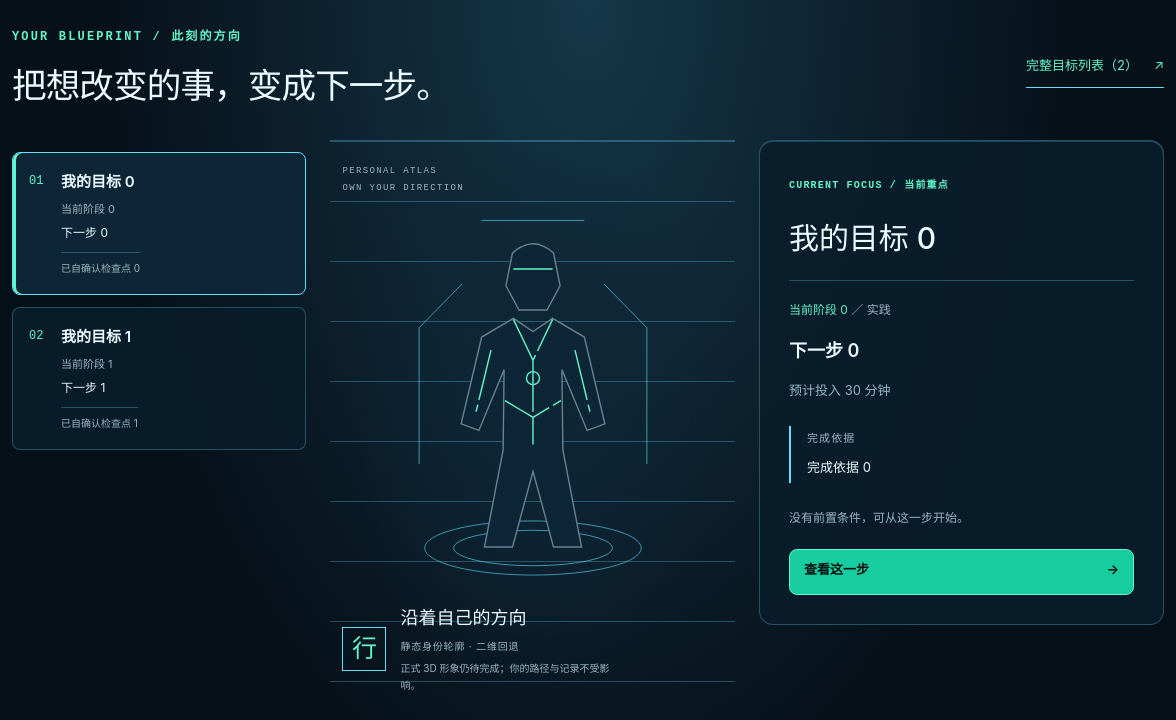
Test: removed focus falls back to an available goal and no eligible next node explains the path dependency state
The width and height of the screenshot is (1176, 720).
Click the button named "关注目标：我的目标 1".
click(96, 337)  # box [12,307,306,450]
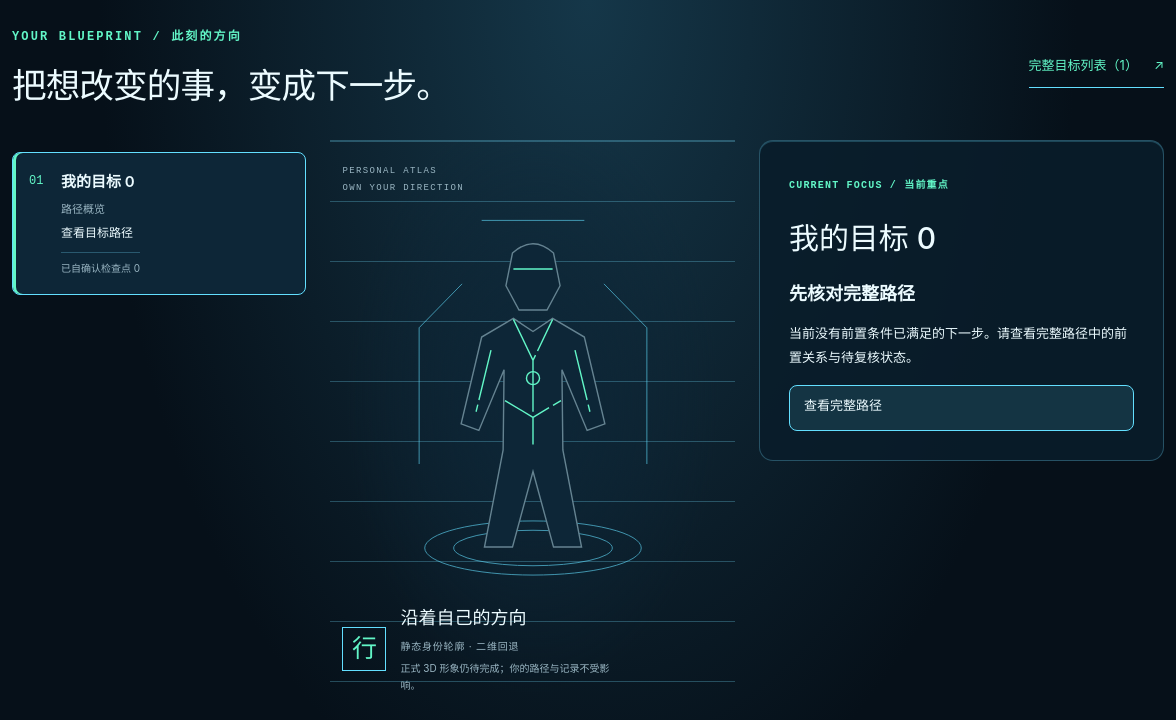
Expected: the element named "当前重点" shows "我的目标 0", [789,220,936,256]
Now the element named "当前重点" shows "当前没有前置条件已满足的下一步", box [789,325,1127,365]
